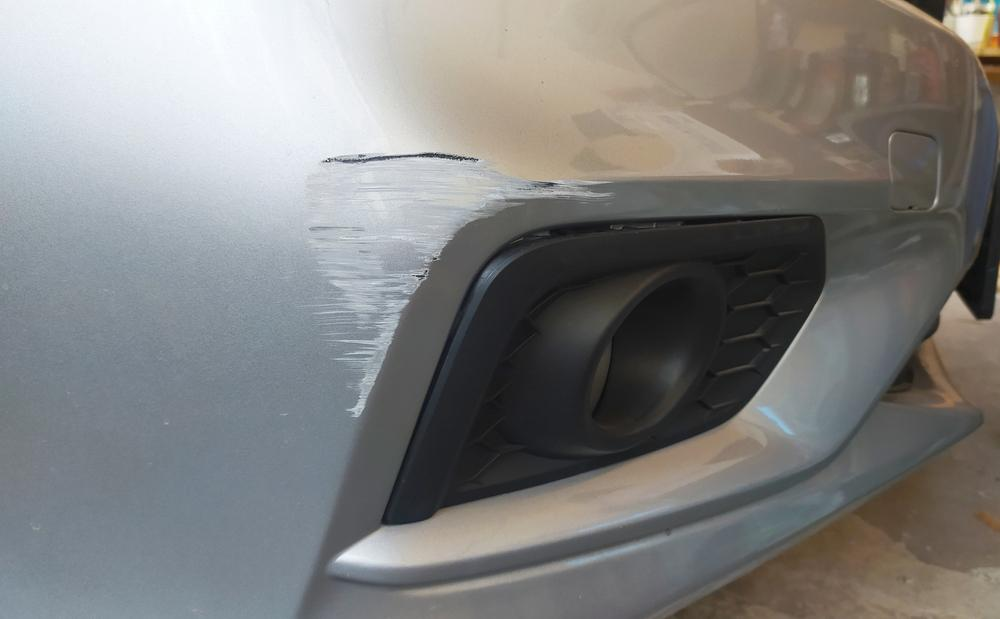scratch: (292, 149, 621, 429)
